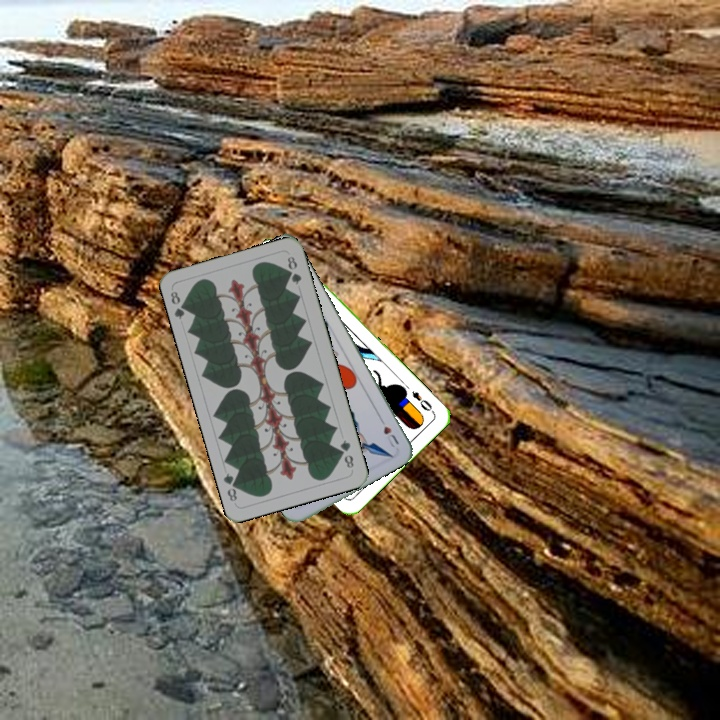EO: (408, 387, 437, 416)
G8: (166, 287, 191, 322), (336, 436, 356, 471)
HU: (375, 413, 401, 451)
